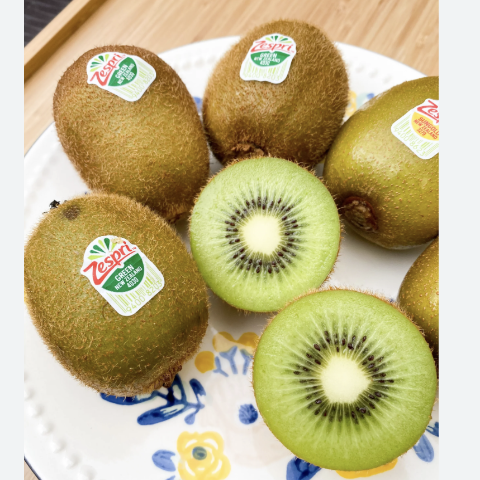kiwi: (15, 177, 231, 395), (54, 25, 207, 233), (193, 14, 364, 177)
